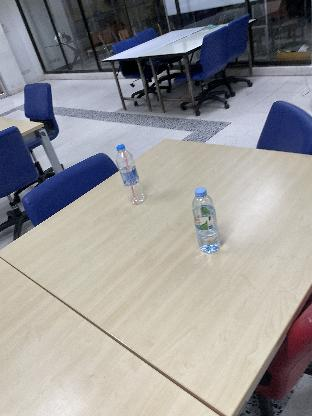Plastic Bottle: (189, 186, 223, 256), (114, 142, 148, 208)
